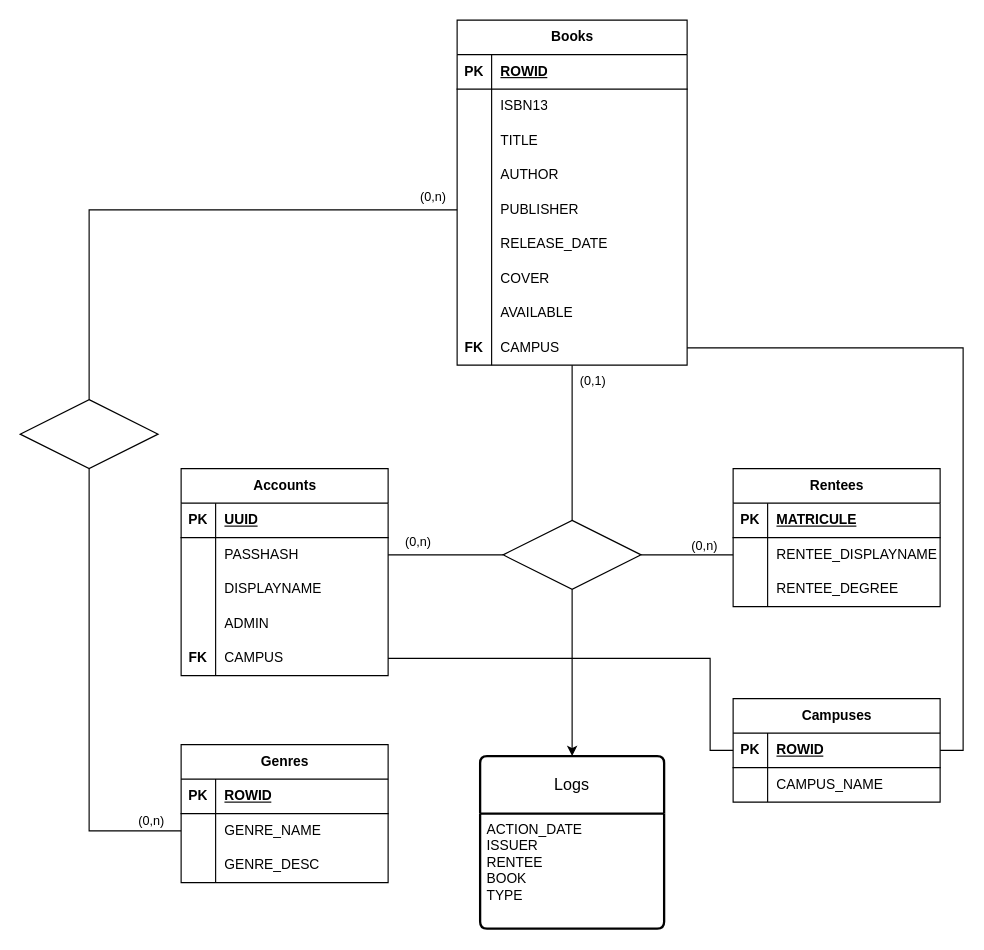
This 984x950 diagram has some shape labels left out. Here are the shapes that lost their labels. From the top down, the centre of each, then its label:
the point at 88,433: Books_Genres
the point at 571,554: Inventory
